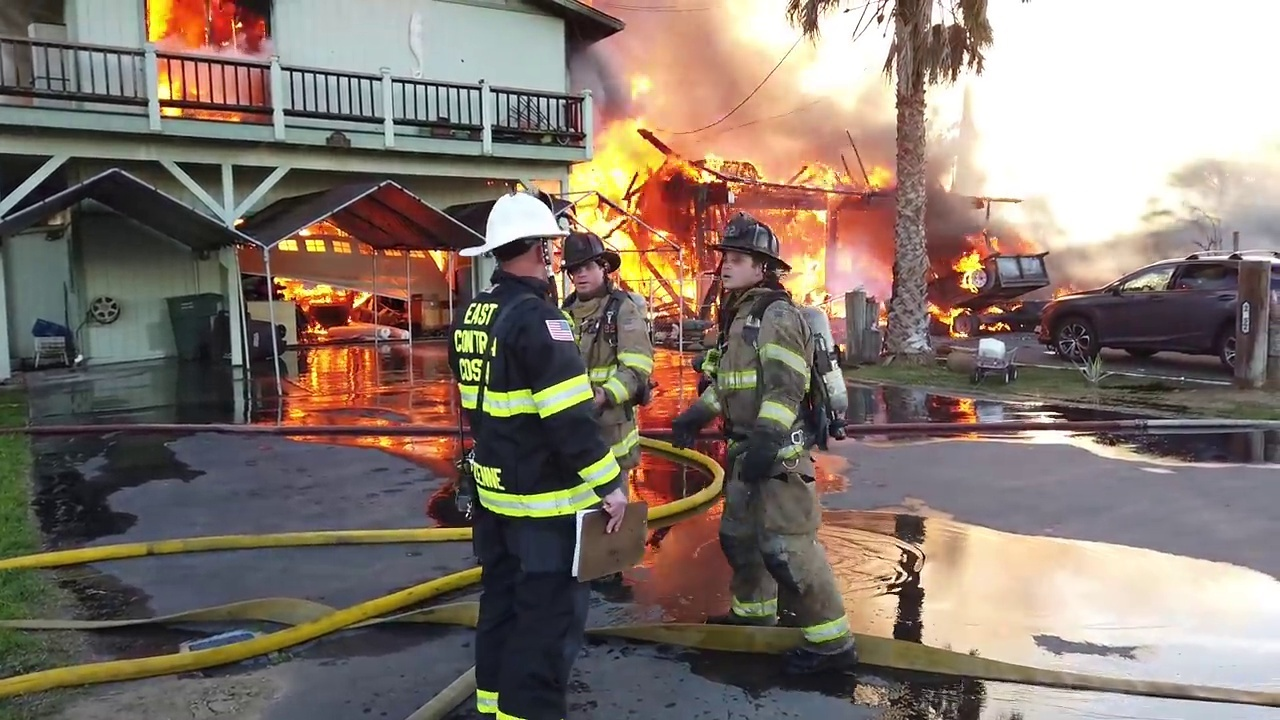fire: (558, 65, 876, 323), (144, 1, 270, 51), (775, 239, 834, 307), (950, 234, 994, 284), (925, 299, 955, 329), (864, 166, 890, 185), (1049, 284, 1077, 299)
smoke: (1187, 16, 1280, 244), (678, 20, 792, 179), (1009, 166, 1172, 248)
